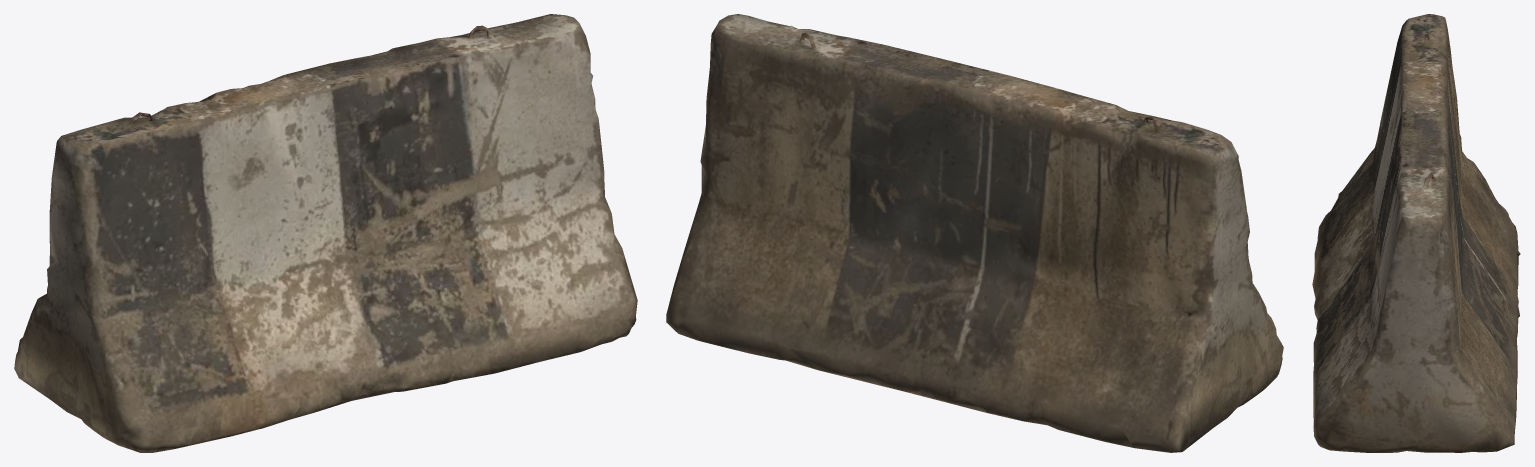
File: barrier.glb
3 views of the same model, side by side, from view 1: azimuth 30°, elevation 25°; view 2: azimuth 150°, elevation 25°; view 3: azimuth 270°, elevation 25° (orthographic). The views are drawn at different scales.
Parts seen in each view (by area): view 1: concrete_road_barrier; view 2: concrete_road_barrier; view 3: concrete_road_barrier.
Part boxes in pixels (bbox=[...]): concrete_road_barrier: bbox=[14, 14, 637, 452]; concrete_road_barrier: bbox=[666, 14, 1283, 452]; concrete_road_barrier: bbox=[1312, 14, 1520, 452].
Size of the model in its own units: 1.54 by 0.8304 by 0.6387.
1 material, 1 textured.
